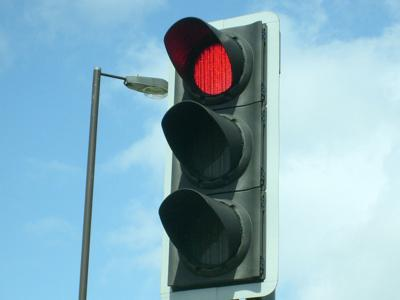trafficlight_red: (159, 20, 266, 278)
